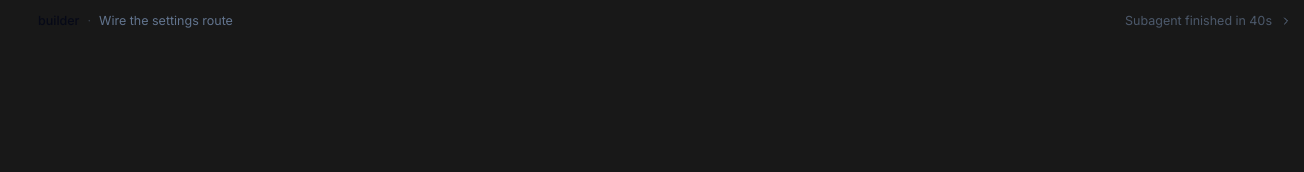
subagent rows › reports a finished subagent from the job's own stamps
The image size is (1304, 172).
Check: the text "edited src/routes/settings.tsx" is not shown
Click the button with aria-label "Subagent builder: Wire the settings route" at (59,20), box x1=12 y1=12 x2=1292 y2=31
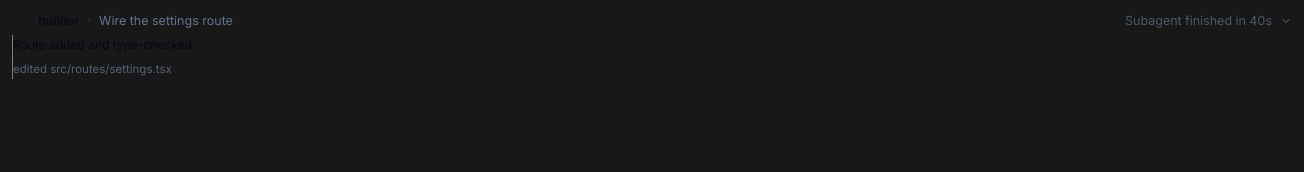
Check: the text "Route added and type-checked." is shown, box x1=13 y1=37 x2=195 y2=52
Check: the list item "edited src/routes/settings.tsx" is shown, box x1=13 y1=62 x2=172 y2=76
